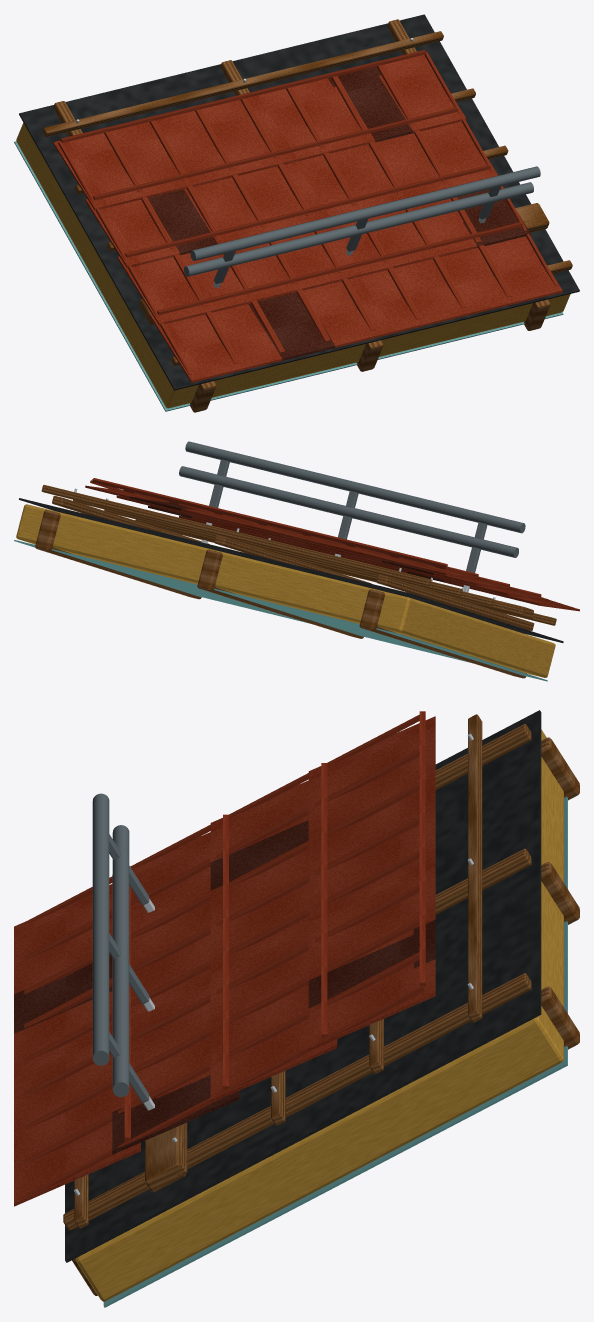
Rendered from modell.glb.
3 views of the same model, one above another, from view 1: azimuth 30°, elevation 25°; view 2: azimuth 150°, elevation 25°; view 3: azimuth 270°, elevation 25° (orthographic). The views are drawn at different scales.
Visible parts, largest first — view 1: a02-deckziegel_deckung, a02-zusatzebene_zusatzebene, a02-daemmung_daemmung, a02-deckziegel_deckung.001, a02-fangsystem_, a02-lattung_lattung, a02-luftdichtheit_luftdichtheit, a02-sparren_tragwerk, a02-halter_, a02-befestigungsuntergrund_lattung; view 2: a02-daemmung_daemmung, a02-lattung_lattung, a02-deckziegel_deckung, a02-fangsystem_, a02-sparren_tragwerk, a02-luftdichtheit_luftdichtheit, a02-zusatzebene_zusatzebene, a02-halter_, a02-deckziegel_deckung.001, a02-befestigungsuntergrund_lattung; view 3: a02-deckziegel_deckung, a02-zusatzebene_zusatzebene, a02-daemmung_daemmung, a02-lattung_lattung, a02-deckziegel_deckung.001, a02-fangsystem_, a02-luftdichtheit_luftdichtheit, a02-sparren_tragwerk, a02-befestigungsuntergrund_lattung, a02-halter_.
Boxes of the visible parts, bbox=[...] form: a02-deckziegel_deckung: bbox=[53, 50, 562, 382]; a02-zusatzebene_zusatzebene: bbox=[19, 14, 579, 390]; a02-daemmung_daemmung: bbox=[16, 123, 570, 408]; a02-deckziegel_deckung.001: bbox=[148, 66, 530, 360]; a02-fangsystem_: bbox=[184, 166, 540, 276]; a02-lattung_lattung: bbox=[42, 19, 572, 366]; a02-luftdichtheit_luftdichtheit: bbox=[14, 141, 563, 411]; a02-sparren_tragwerk: bbox=[190, 299, 550, 412]; a02-halter_: bbox=[213, 186, 500, 283]; a02-befestigungsuntergrund_lattung: bbox=[139, 203, 549, 325]; a02-daemmung_daemmung: bbox=[16, 504, 555, 677]; a02-lattung_lattung: bbox=[41, 485, 556, 630]; a02-deckziegel_deckung: bbox=[85, 478, 579, 611]; a02-fangsystem_: bbox=[179, 441, 525, 557]; a02-sparren_tragwerk: bbox=[35, 510, 526, 678]; a02-luftdichtheit_luftdichtheit: bbox=[14, 540, 547, 681]; a02-zusatzebene_zusatzebene: bbox=[19, 498, 563, 642]; a02-halter_: bbox=[209, 459, 487, 572]; a02-deckziegel_deckung.001: bbox=[129, 496, 452, 582]; a02-befestigungsuntergrund_lattung: bbox=[149, 524, 533, 619]; a02-deckziegel_deckung: bbox=[14, 711, 435, 1206]; a02-zusatzebene_zusatzebene: bbox=[65, 710, 541, 1262]; a02-daemmung_daemmung: bbox=[75, 729, 563, 1301]; a02-lattung_lattung: bbox=[63, 714, 531, 1230]; a02-deckziegel_deckung.001: bbox=[14, 820, 435, 1154]; a02-fangsystem_: bbox=[92, 793, 129, 1097]; a02-luftdichtheit_luftdichtheit: bbox=[103, 796, 567, 1307]; a02-sparren_tragwerk: bbox=[72, 737, 579, 1295]; a02-befestigungsuntergrund_lattung: bbox=[145, 1125, 185, 1192]; a02-halter_: bbox=[109, 834, 149, 1102].
Size of the model in its own units: 2.14 by 1.04 by 1.69.
8 materials, 5 textured.
